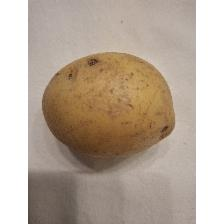Kartoffel: (39, 49, 179, 159)
